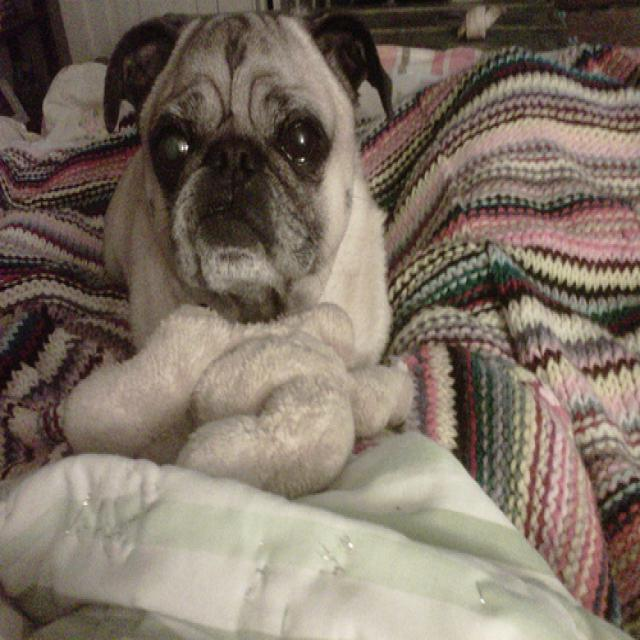dog-pug: (92, 2, 404, 379)
